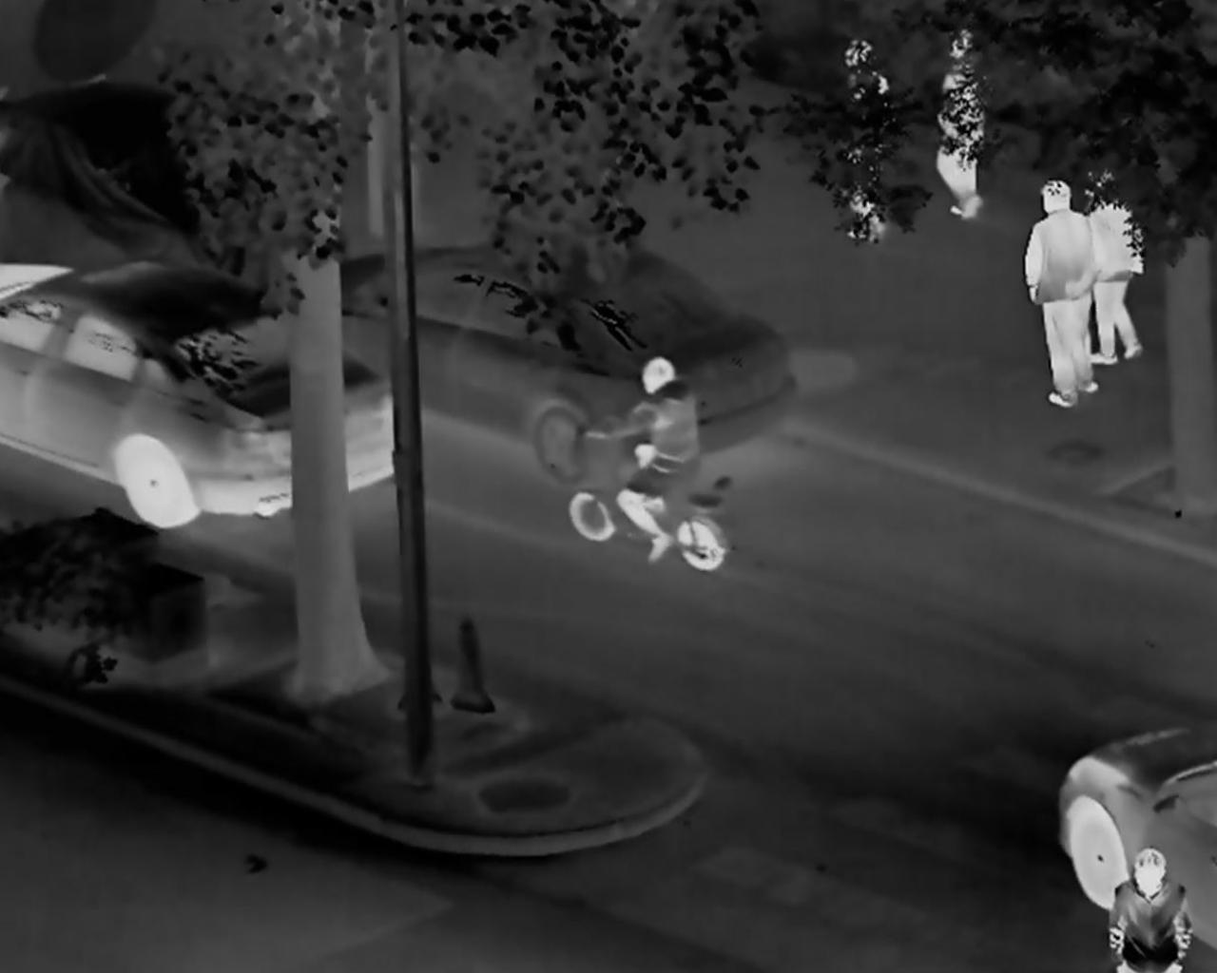person: (585, 353, 703, 563), (1026, 179, 1101, 408), (928, 29, 993, 220), (1085, 160, 1143, 364), (832, 35, 888, 245), (1105, 847, 1193, 973)
